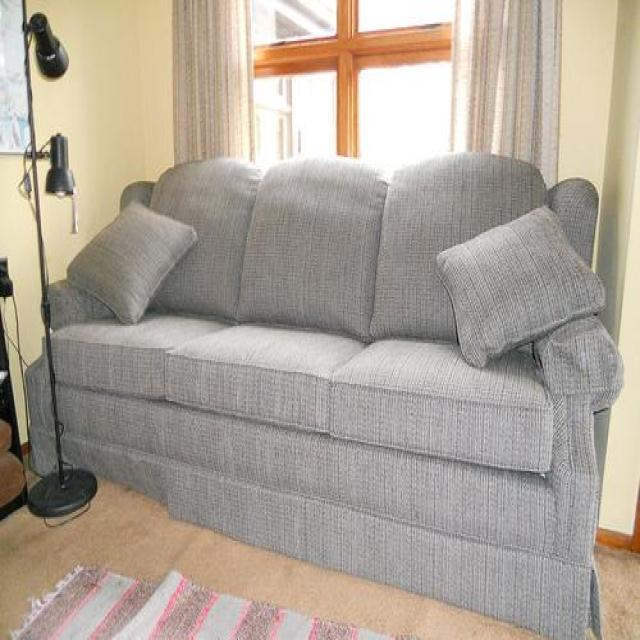sofa: (24, 150, 624, 637)
